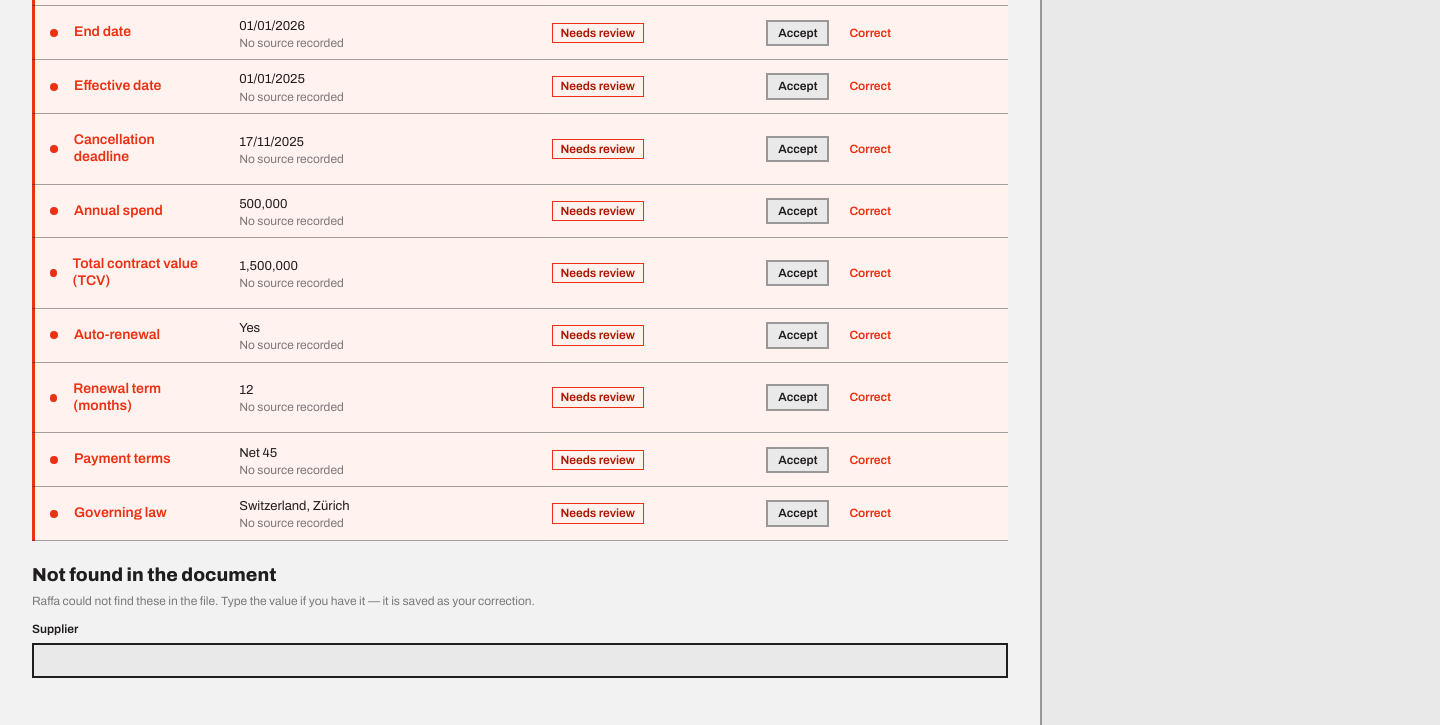
Test: ReviewRoute › AC-3: evidence pane + correction form › shows an inline error and does not clear the form on a failed correction (e.g. a rejected no-op)
The image size is (1440, 725).
(page scrolled)
Click the button "Payment terms". click: (110, 460)
box: [44,441,177,478]
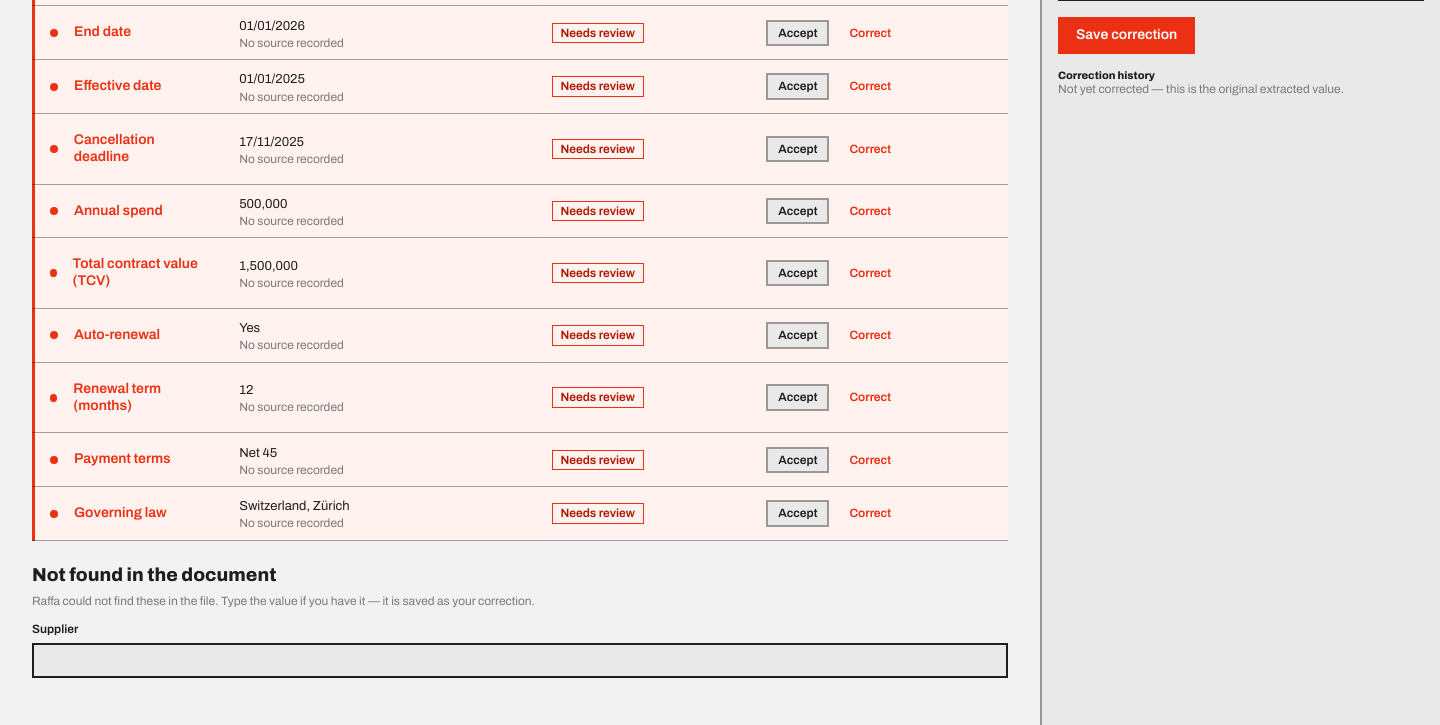
Click the button "Save correction". click: (1127, 35)
box: [1058,17,1195,54]
(page scrolled)
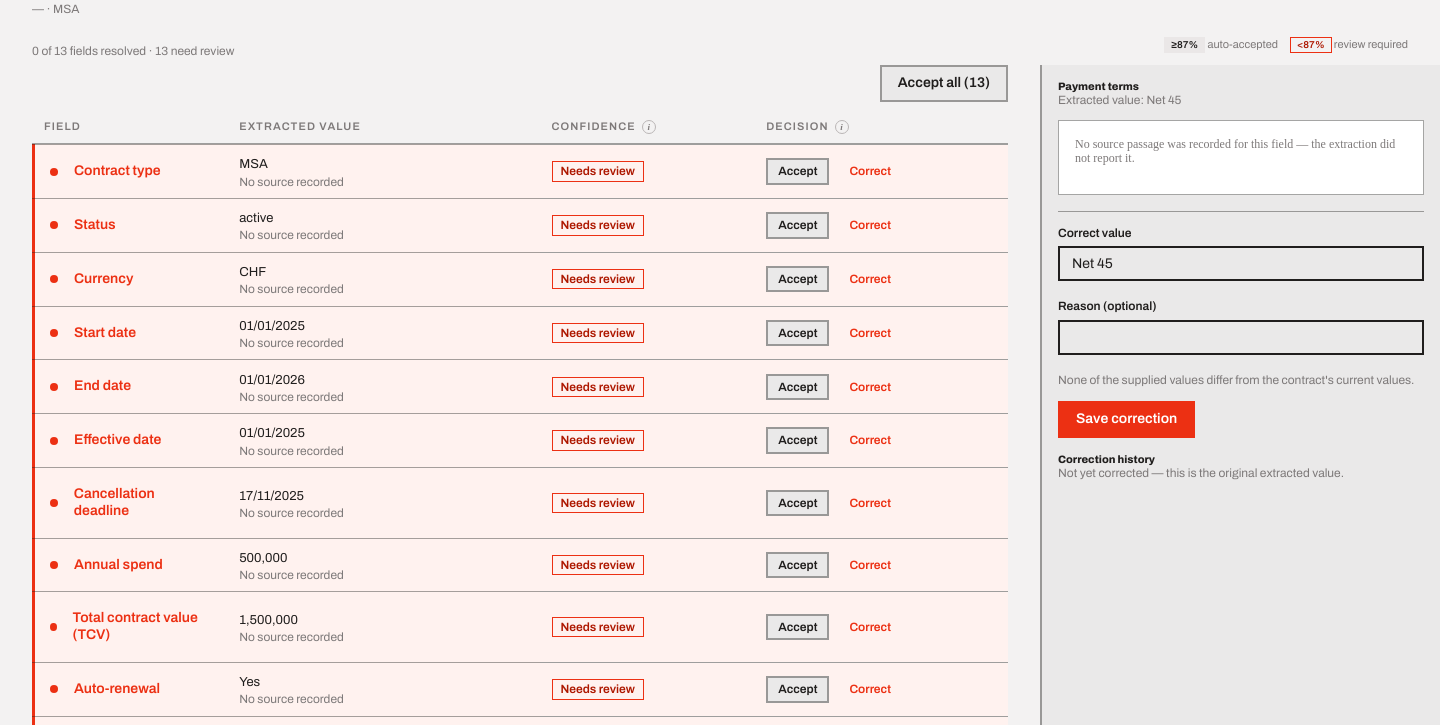
expect the field labelled "Correct value" holds "Net 45": met, box [1058,246,1424,281]
expect the message shows "None of the supplied values differ": met, box [1058,373,1414,387]
